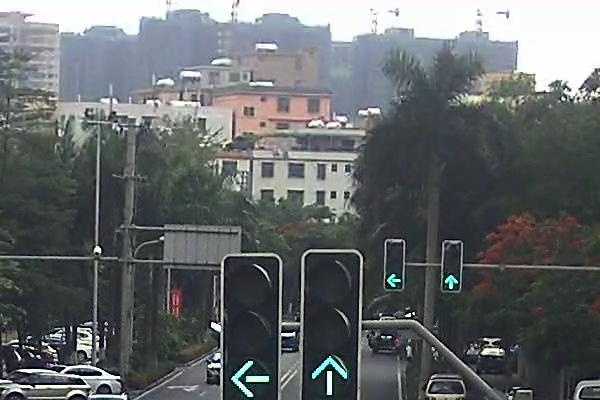greenleft: (228, 359, 271, 399), (385, 271, 402, 289)
greenstraight: (311, 355, 351, 397), (444, 274, 459, 290)
